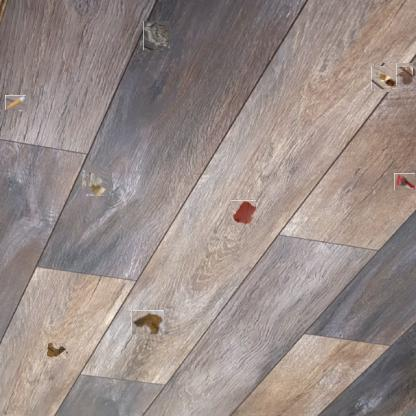dirty: (131, 310, 164, 335), (143, 21, 171, 50), (373, 64, 399, 91), (84, 168, 110, 194), (394, 173, 415, 190), (7, 93, 24, 112), (48, 343, 68, 359)
liquid: (231, 200, 256, 225), (396, 65, 414, 84)
